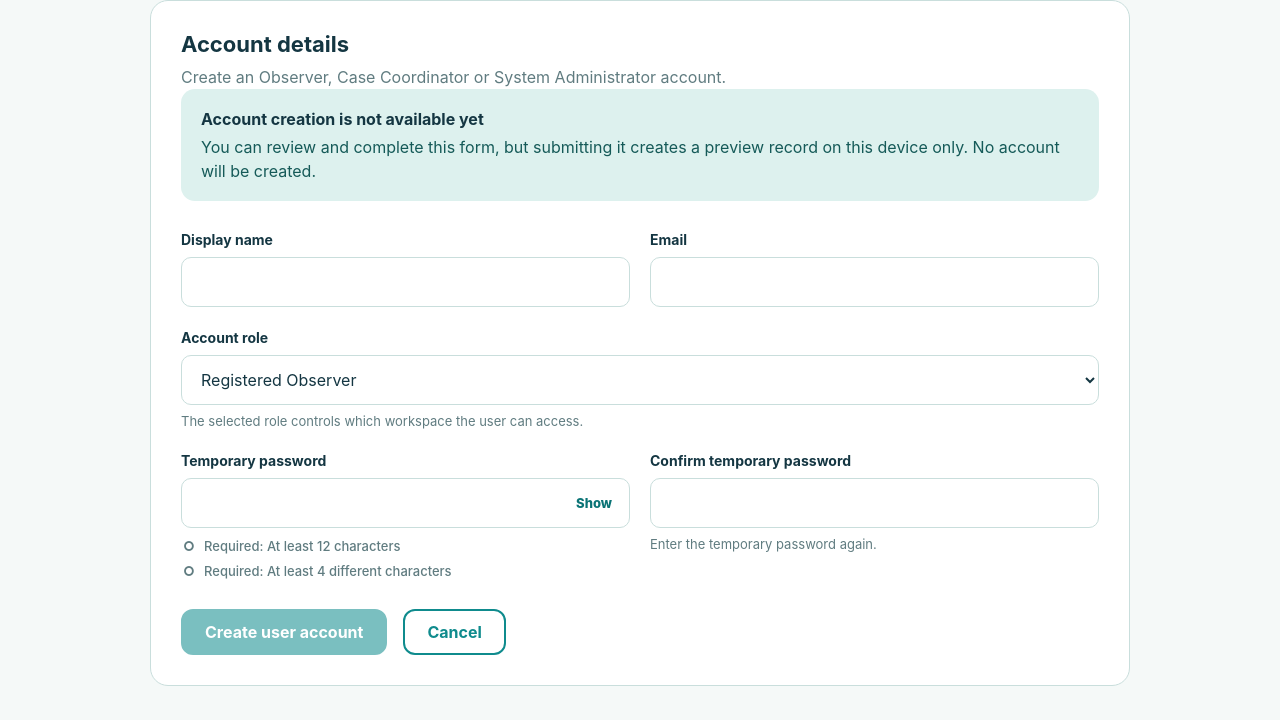
it: Administrator account creation › accepts the current 12-character temporary-password minimum
Type "Farah Aziz" into the field labelled "Display name" at point(406, 282), box top-left (181, 256), bottom-right (630, 306)
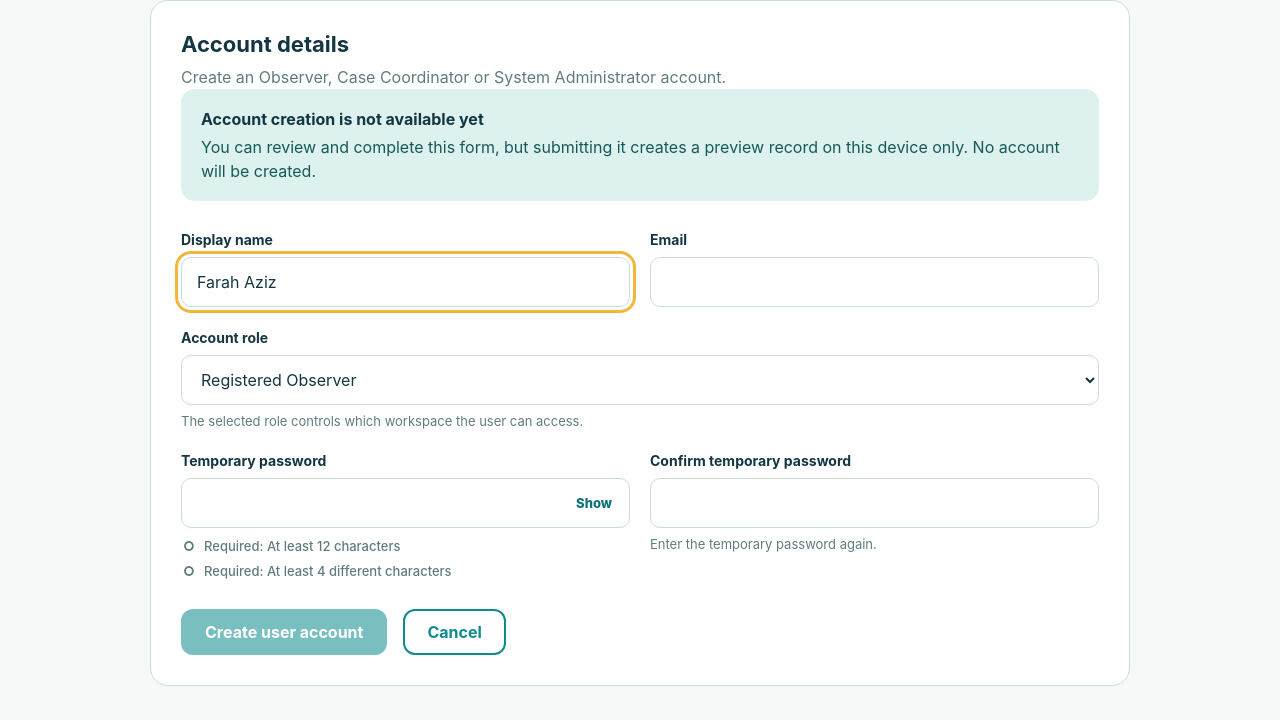
Type "farah@example.org" into the field labelled "Email" at point(874, 282), box top-left (650, 256), bottom-right (1099, 306)
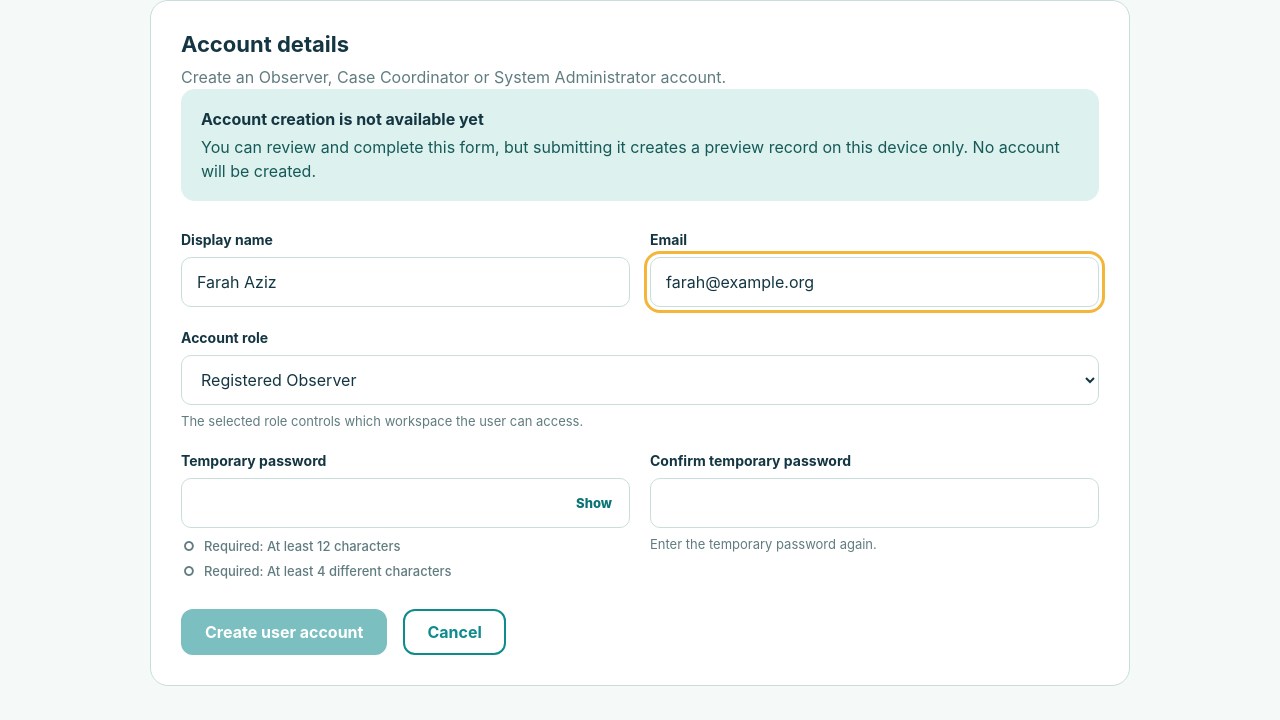
Type "reefcare1234" into the password field labelled "Temporary password" at point(406, 503), box top-left (181, 478), bottom-right (630, 528)
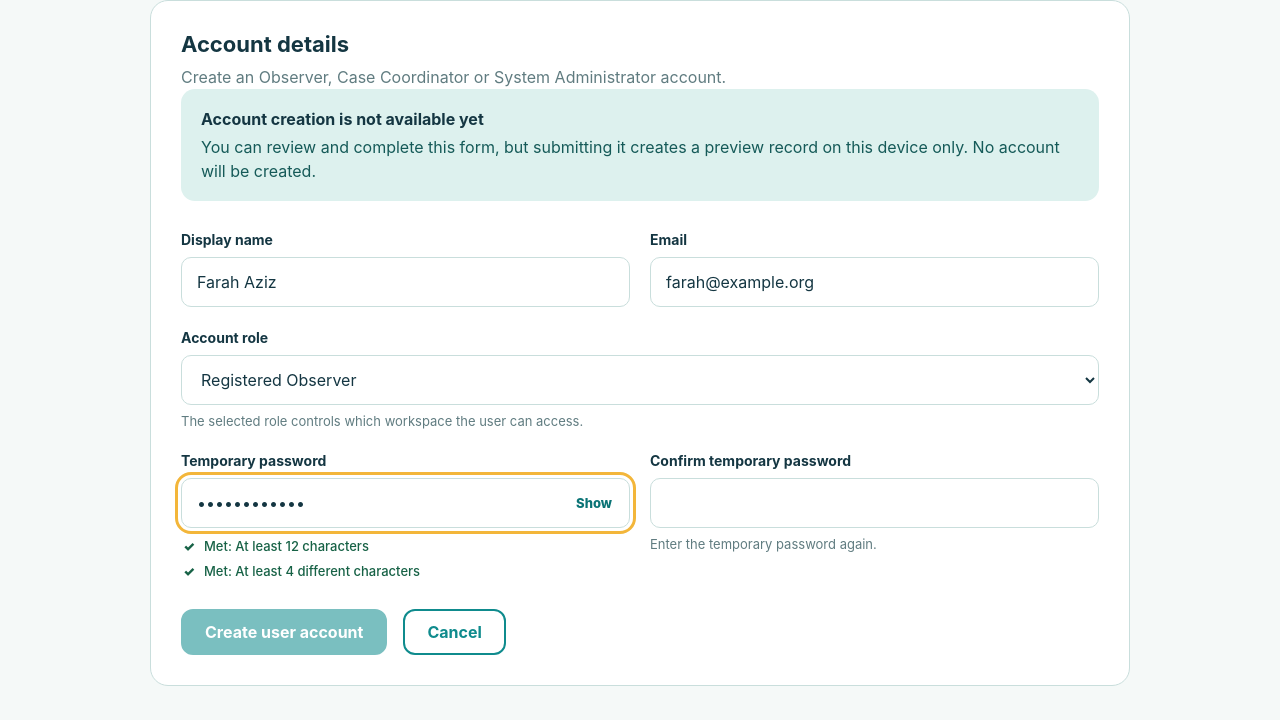
Type "reefcare1234" into the password field labelled "Confirm temporary password" at point(874, 503), box top-left (650, 478), bottom-right (1099, 528)
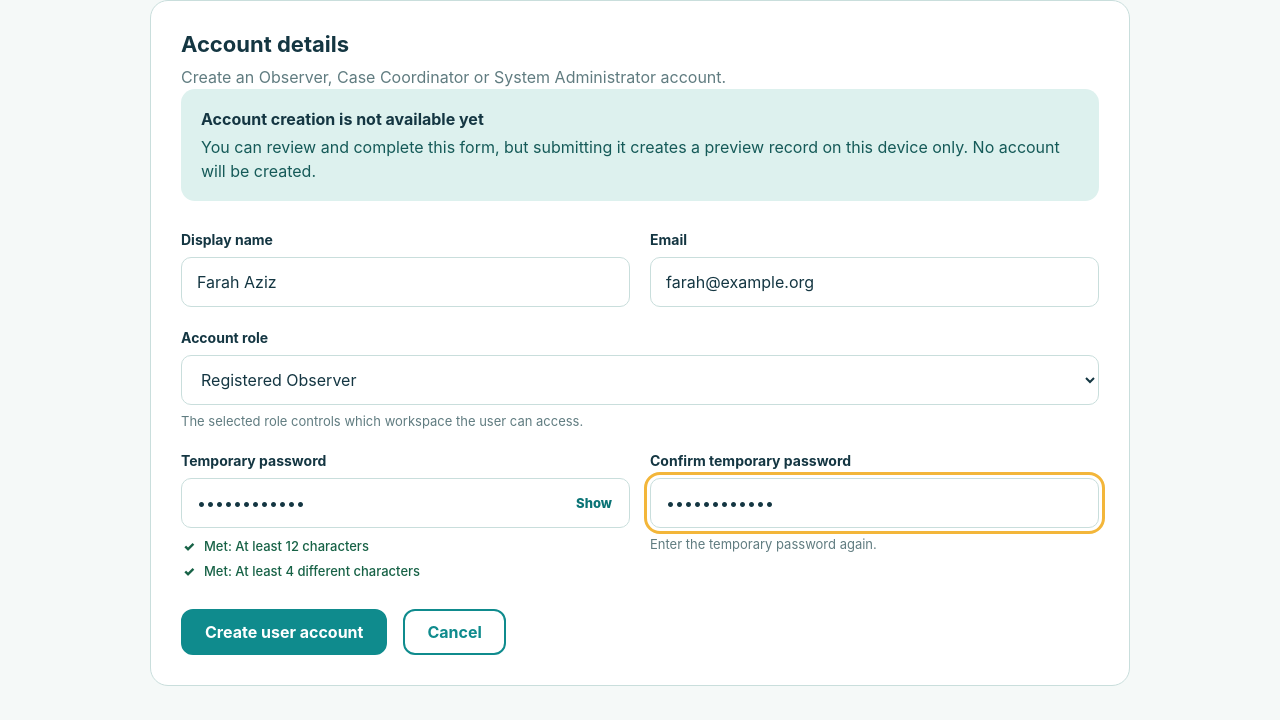
Expected: the list item "Met: At least 12 characters" is shown, top-left (204, 538), bottom-right (369, 554)
Expected: the button "Create user account" is enabled, top-left (181, 609), bottom-right (387, 655)
